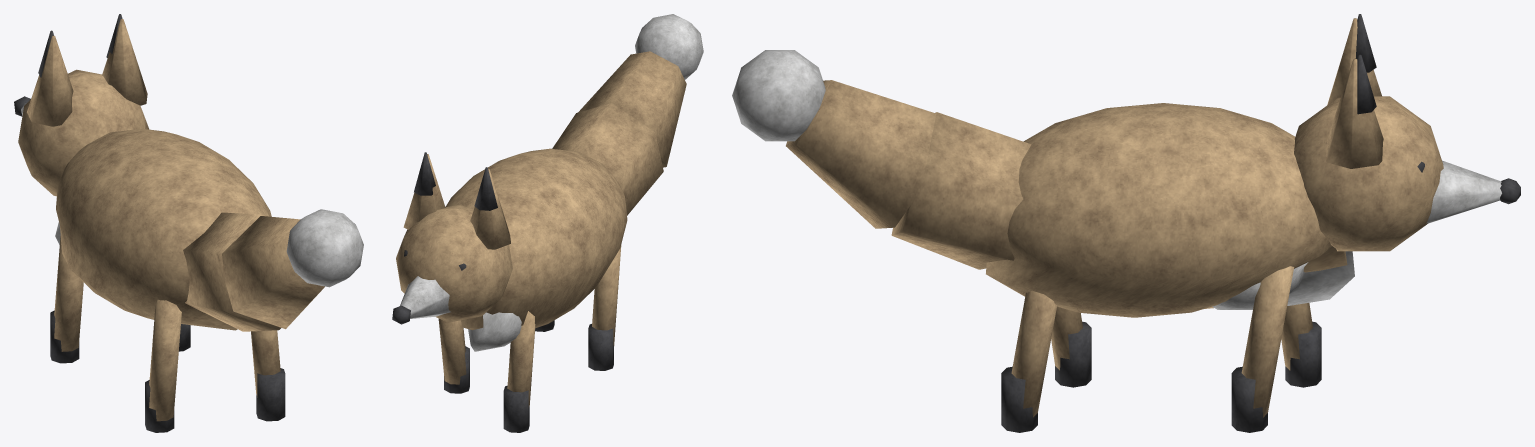
File: mob_rubah_walk3.obj
3 views of the same model, side by side, from view 1: azimuth 30°, elevation 25°; view 2: azimuth 150°, elevation 25°; view 3: azimuth 270°, elevation 25° (orthographic). The views are drawn at different scales.
Parts seen in each view (by area): view 1: mob_rubah; view 2: mob_rubah; view 3: mob_rubah.
Boxes of the visible parts, x1=… form: mob_rubah: x1=14, y1=14, x2=363, y2=432; mob_rubah: x1=392, y1=14, x2=703, y2=432; mob_rubah: x1=732, y1=14, x2=1520, y2=432.
Size of the model in its own units: 0.3759 by 0.6695 by 1.29.
1 material, 1 textured.
